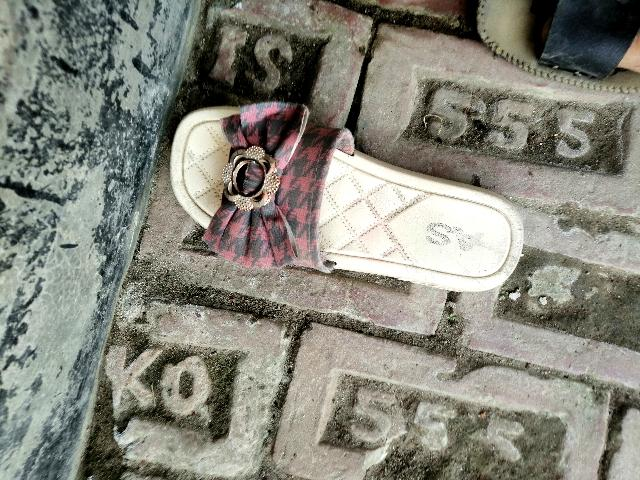sandal: (136, 82, 528, 341)
